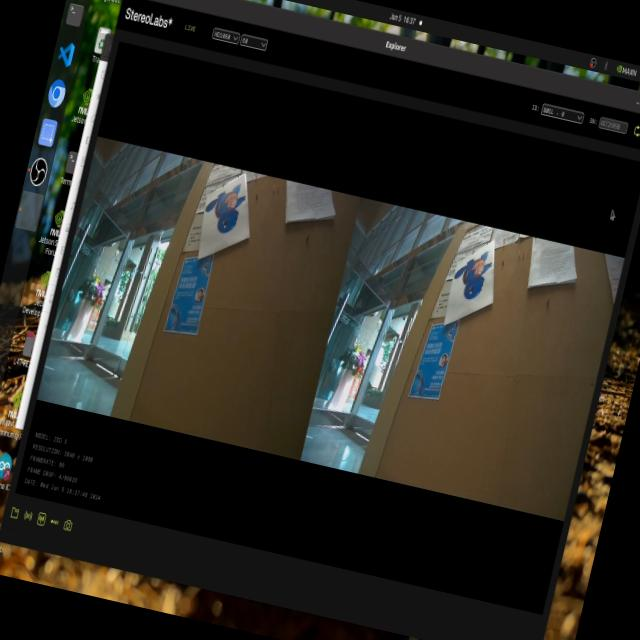blue: (200, 186, 252, 244), (448, 246, 495, 309)
